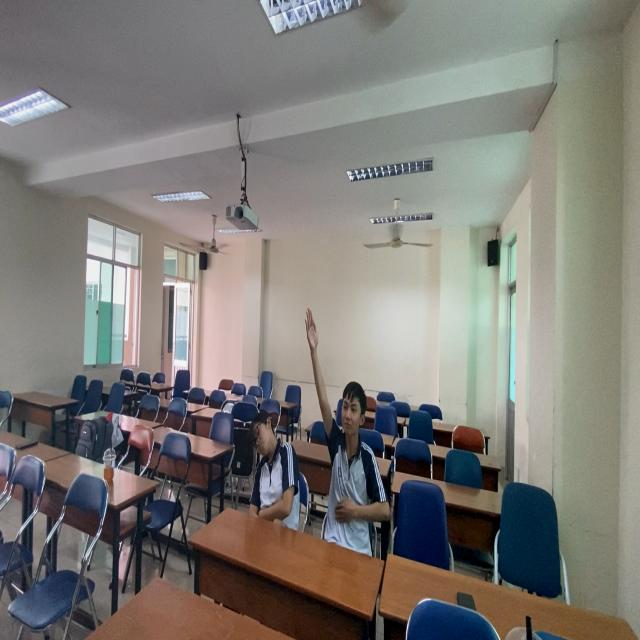raise_hand: (306, 304, 368, 571)
